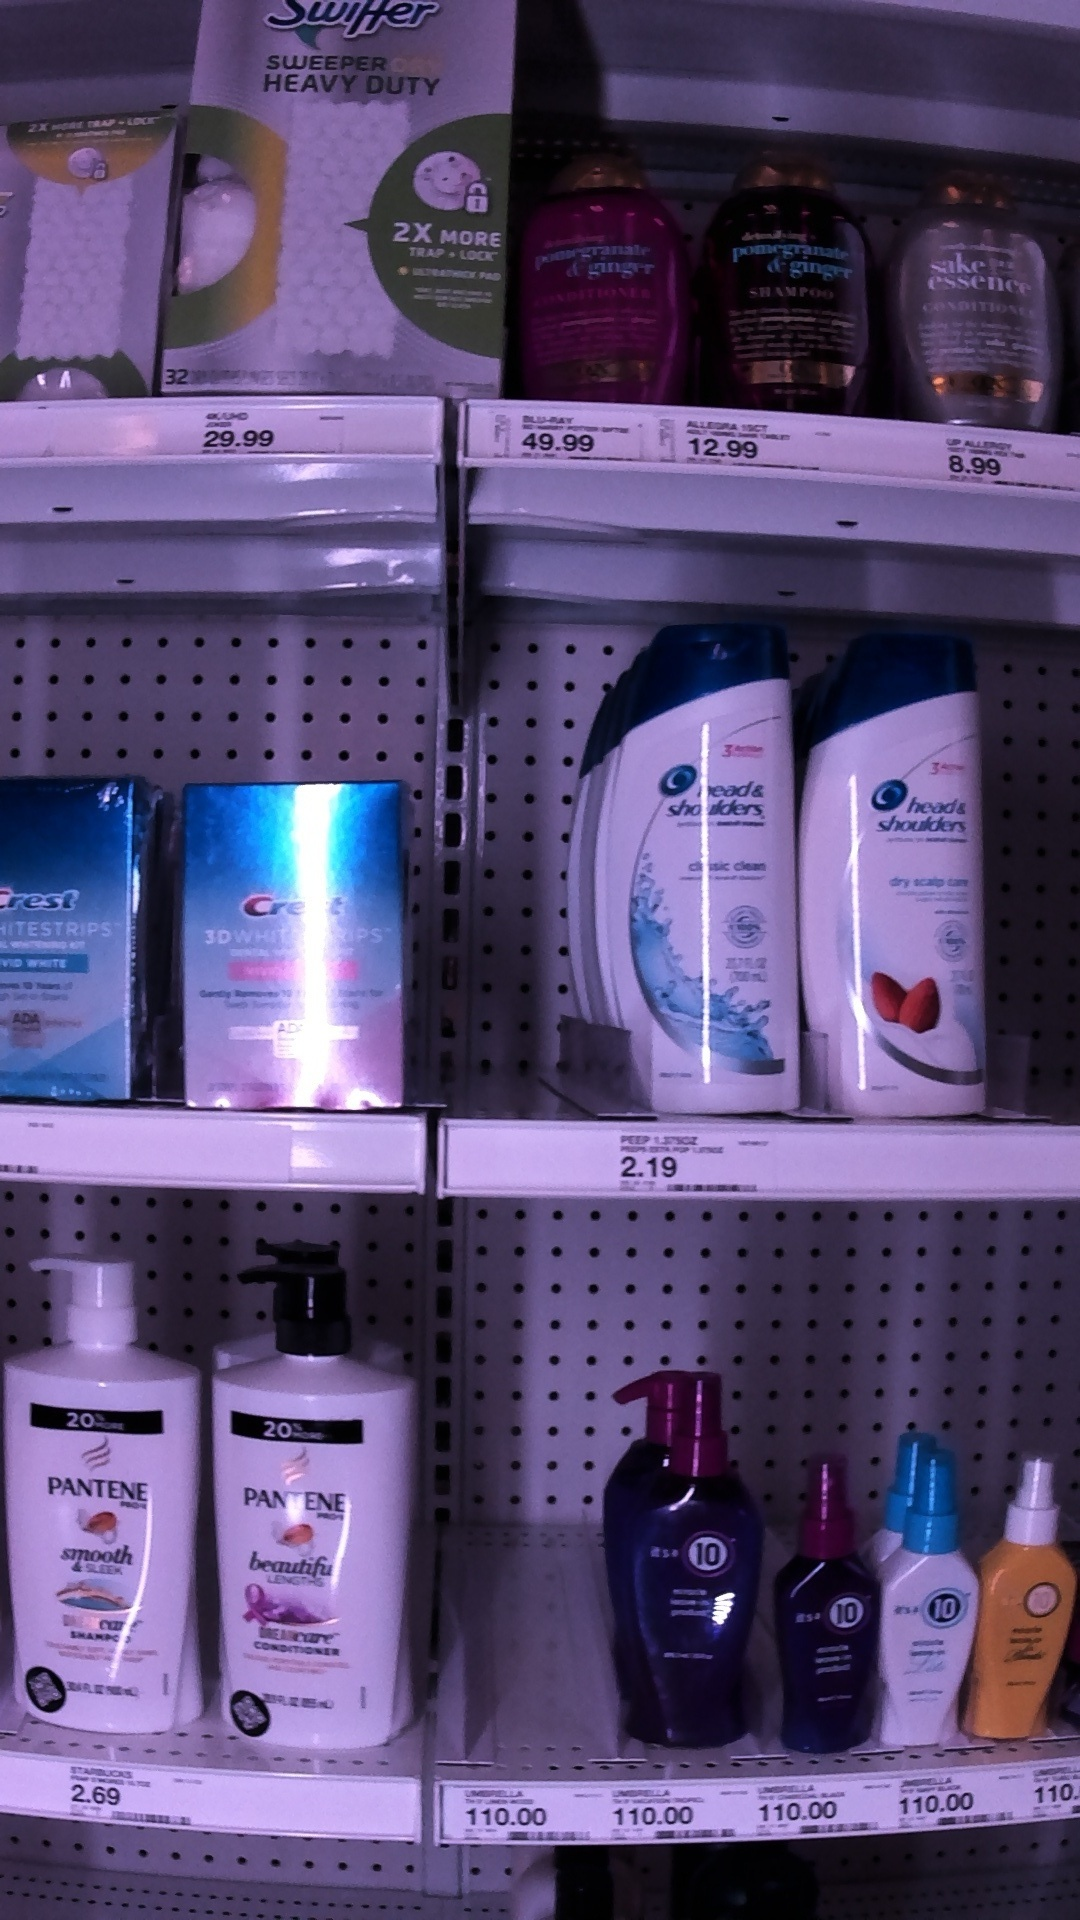ptag: (593, 1122, 764, 1203), (480, 400, 642, 475), (671, 397, 802, 483), (66, 1755, 208, 1832), (198, 393, 345, 464), (600, 1785, 746, 1853), (438, 1784, 580, 1851), (924, 422, 1058, 493), (902, 1774, 1015, 1832), (760, 1782, 880, 1833)
